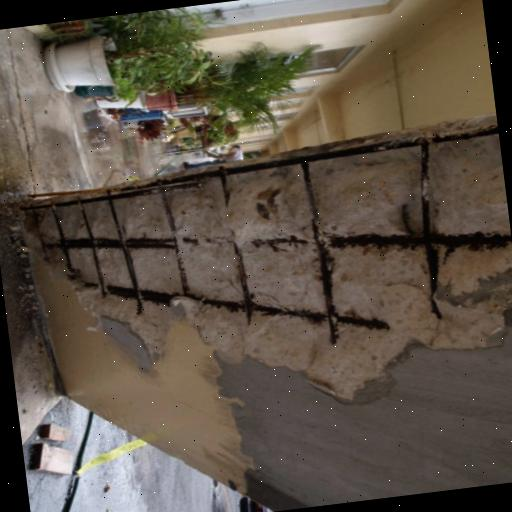spalling: (13, 123, 512, 390)
